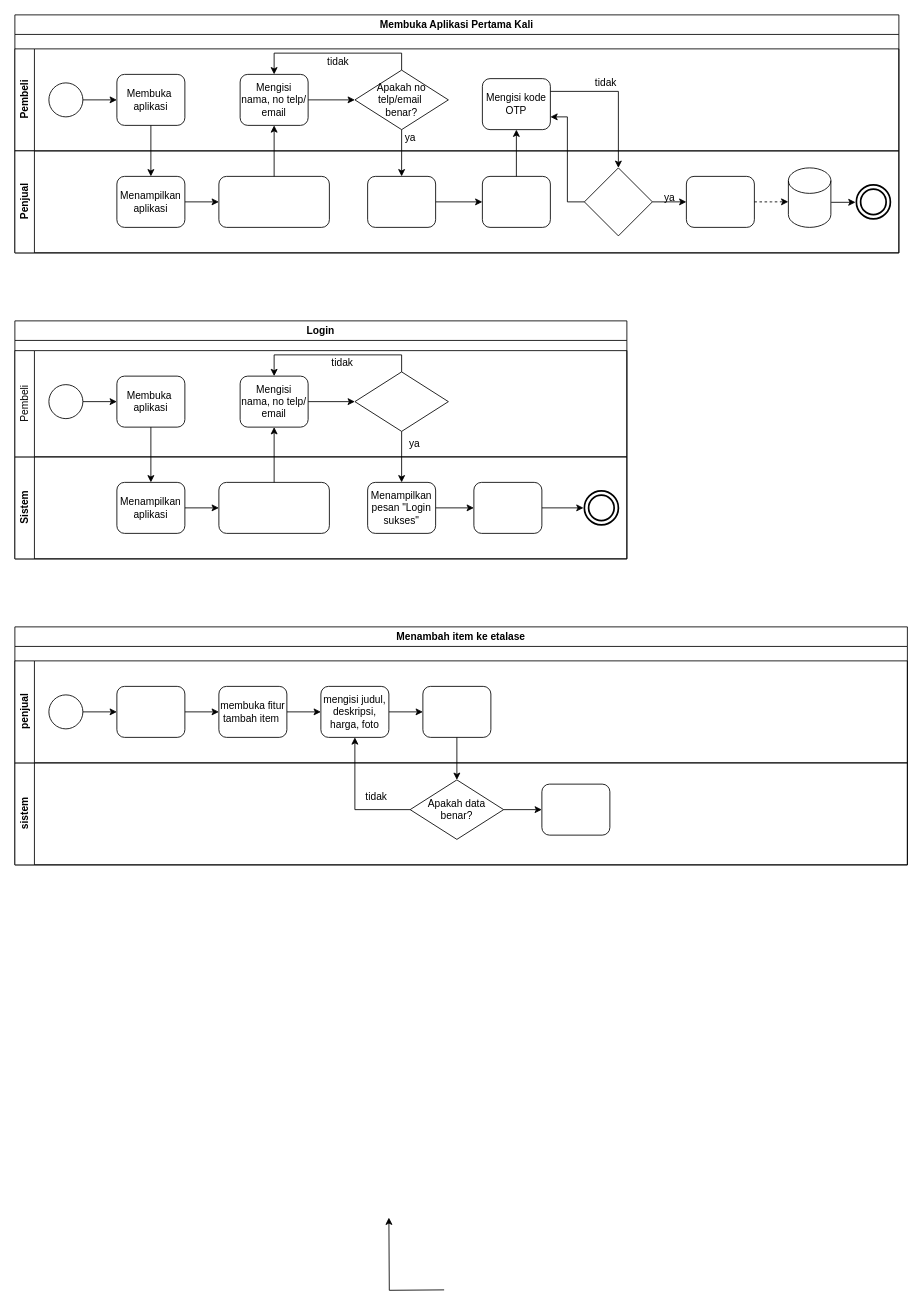
Some shapes in this 922 by 1312 pixel diagram are drawn without their labels. The centre of each missing label's shape, as x and y in pixels:
Apakah kode OTP benar: point 618,201
Apakah nama, no telp/email benar?: point 401,401
Membuka halaman toko: point 150,711
Menampilkan form input kode OTP: point 516,201
Menampilkan form login berisi nama, no telp/email: point 273,507
Menampilkan form registrasi berisi nama, no telp/email: point 273,201
menampilkan item baru ke etalase: point 575,809
Menampilkan pesan "Registrasi Sukses": point 720,201
Mengirimkan kode OTP ke no telp/email: point 401,201
mengklik simpan: point 456,711
mumbuka fitur pemesanan dan profil: point 507,507
